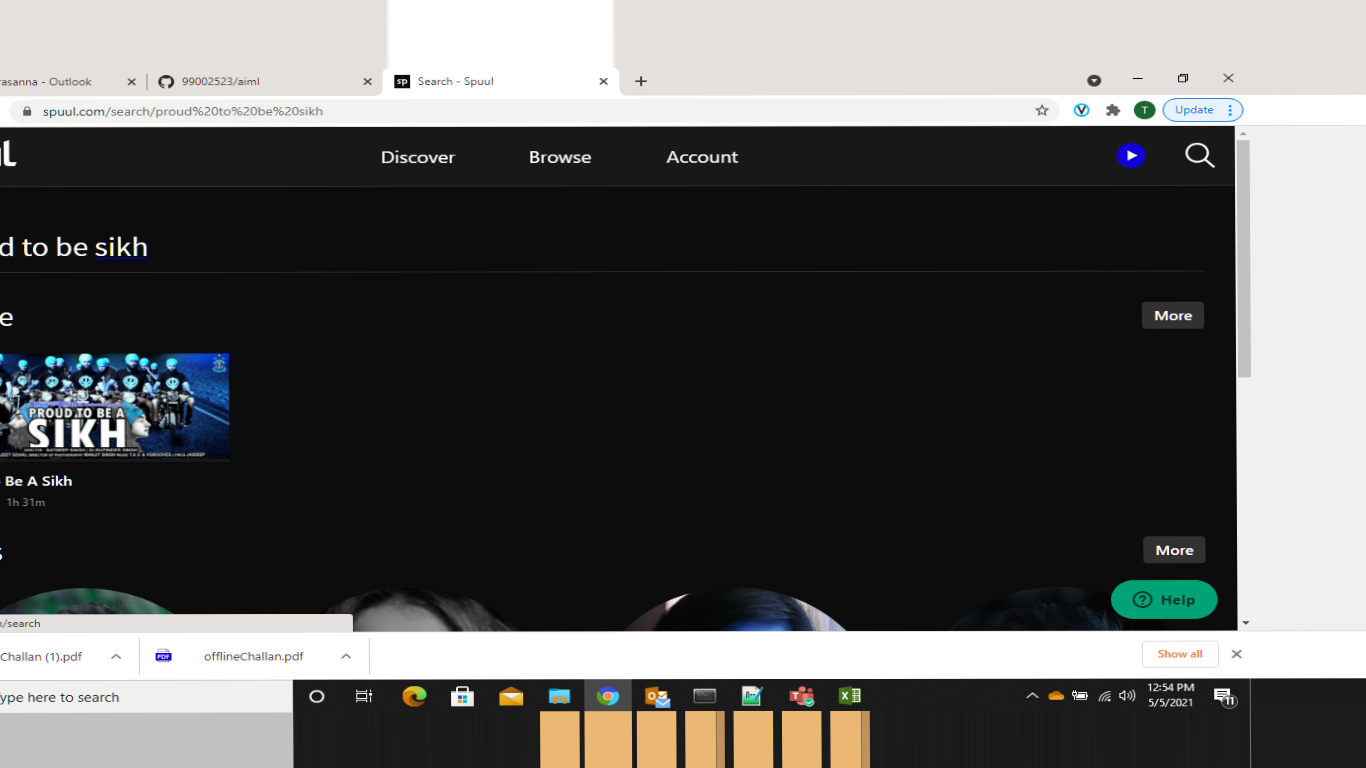myaccountbutton: (634, 137, 749, 181)
searchicon: (1171, 135, 1225, 175)
searchtextbox: (1, 216, 1205, 282)
